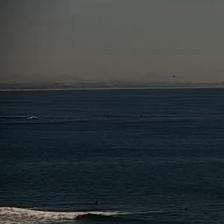surfer: (94, 200, 99, 205), (184, 208, 189, 210)
